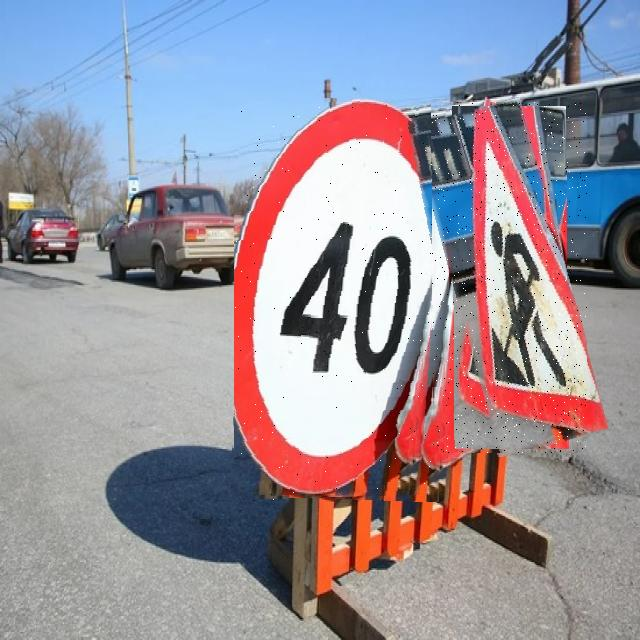roadwork: (431, 102, 587, 453)
speed limit 40: (234, 98, 449, 501)
